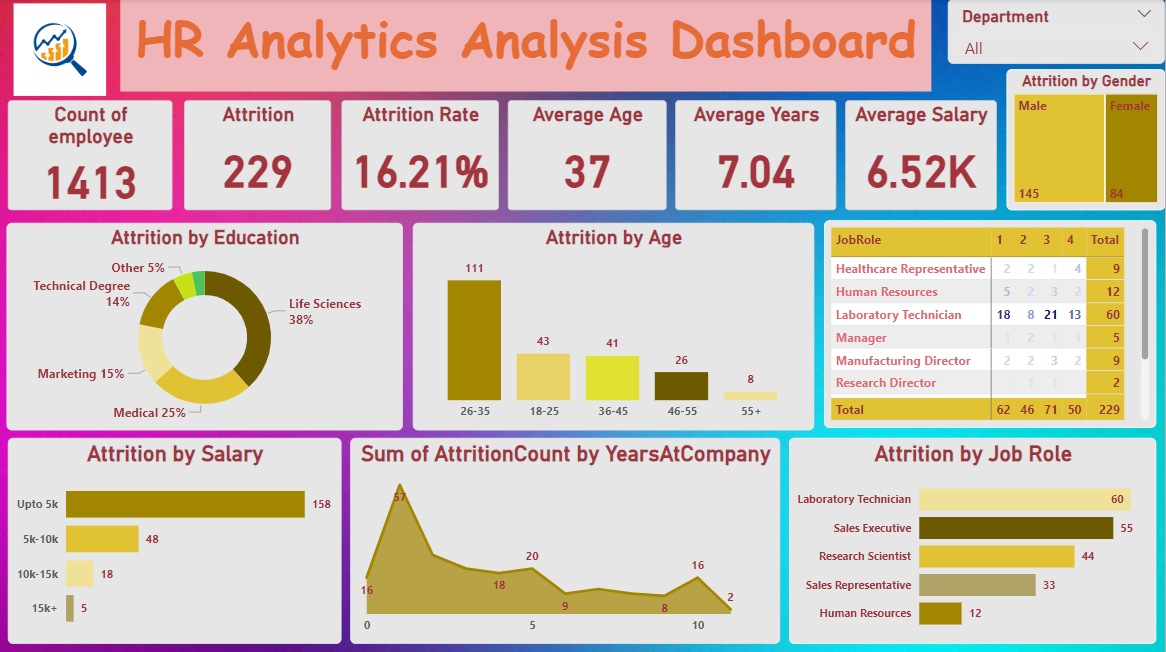

Layout of this report page (visuals, bound fields, positions):
{"tool":"powerbi","page":{"name":"Page 1","canvas":[1280,720],"ordinal":0},"visuals":[{"type":"card","title":"Count of employee","fields":{"Values":["CountNonNull(HR_Analytics.EmpID)"]},"box":[9.6,111.1,181.1,120.8],"z":0},{"type":"card","title":"Attrition","fields":{"Values":["Sum(HR_Analytics.AttritionCount)"]},"box":[203.1,111.1,161.9,120.8],"z":1000},{"type":"card","title":"Attrition Rate","fields":{"Values":["HR_Analytics.Attrition Rate"]},"box":[376,111.1,172.9,120.8],"z":2000},{"type":"card","title":"Average Age","fields":{"Values":["Avg(HR_Analytics.Age)"]},"box":[558.5,111.1,174.3,120.8],"z":3000},{"type":"card","title":"Average Years","fields":{"Values":["Avg(HR_Analytics.YearsAtCompany)"]},"box":[742.4,111.1,177,120.8],"z":4000},{"type":"card","title":"Average Salary","fields":{"Values":["Avg(HR_Analytics.MonthlyIncome)"]},"box":[929,111.1,166,120.8],"z":5000},{"type":"donutChart","title":"Attrition by Education","fields":{"Y":["Sum(HR_Analytics.AttritionCount)"],"Category":["HR_Analytics.EducationField"]},"box":[8.2,245.6,435,227.8],"z":6000},{"type":"columnChart","title":"Attrition by Age","fields":{"Category":["HR_Analytics.AgeGroup"],"Y":["Sum(HR_Analytics.AttritionCount)"]},"box":[454.2,245.6,440.5,227.8],"z":7000},{"type":"pivotTable","fields":{"Values":["Sum(HR_Analytics.AttritionCount)"],"Rows":["HR_Analytics.JobRole"],"Columns":["HR_Analytics.JobSatisfaction"]},"box":[905.7,242.9,365,227.8],"z":8000},{"type":"barChart","title":"Attrition by Salary","fields":{"Category":["HR_Analytics.SalarySlab"],"Y":["Sum(HR_Analytics.AttritionCount)"]},"box":[9.6,481.6,366.4,226.4],"z":9000},{"type":"barChart","title":"Attrition by Job Role","fields":{"Category":["HR_Analytics.JobRole"],"Y":["Sum(HR_Analytics.AttritionCount)"]},"box":[867.2,481.6,403.4,226.4],"z":10000},{"type":"areaChart","fields":{"Y":["Sum(HR_Analytics.AttritionCount)"],"Category":["HR_Analytics.YearsAtCompany"]},"box":[385.6,481.6,472,226.4],"z":11000},{"type":"treemap","title":"Attrition by Gender","fields":{"Group":["HR_Analytics.Gender"],"Values":["Sum(HR_Analytics.AttritionCount)"]},"box":[1106,76.8,174.3,155.1],"z":12000},{"type":"textbox","box":[133.1,0,890.6,101.5],"z":13000},{"type":"image","box":[0,0,133.1,111.1],"z":14000},{"type":"slicer","fields":{"Values":["HR_Analytics.Department"]},"box":[1041.5,0,238.8,71.4],"z":15000}]}

Visuals, with their boxes in screenshot pixels (x1, y1, x2, y2), scaled from the page's 1280x720 canvas onto the 1166x652 screenshot:
"Count of employee" card: (9,101,174,210)
"Attrition" card: (185,101,332,210)
"Attrition Rate" card: (343,101,500,210)
"Average Age" card: (509,101,668,210)
"Average Years" card: (676,101,838,210)
"Average Salary" card: (846,101,997,210)
"Attrition by Education" donutChart: (7,222,404,429)
"Attrition by Age" columnChart: (414,222,815,429)
pivotTable - Sum(HR_Analytics.AttritionCount) x HR_Analytics.JobRole: (825,220,1158,426)
"Attrition by Salary" barChart: (9,436,343,641)
"Attrition by Job Role" barChart: (790,436,1157,641)
areaChart - Sum(HR_Analytics.AttritionCount) x HR_Analytics.YearsAtCompany: (351,436,781,641)
"Attrition by Gender" treemap: (1007,70,1165,210)
textbox: (121,0,933,92)
image: (0,0,121,101)
slicer - HR_Analytics.Department: (949,0,1165,65)
